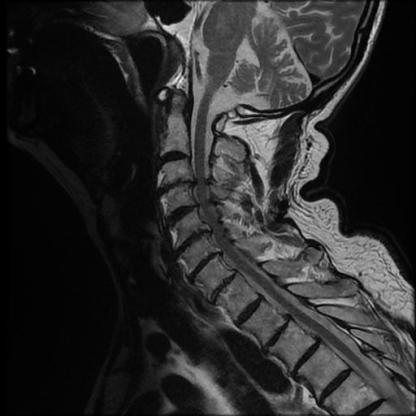Disc Bulgerotation: (181, 259, 228, 277), (168, 233, 215, 250), (162, 205, 200, 223), (156, 150, 191, 167), (157, 178, 195, 193)
Disc Protrusionrotation: (157, 150, 191, 167)
